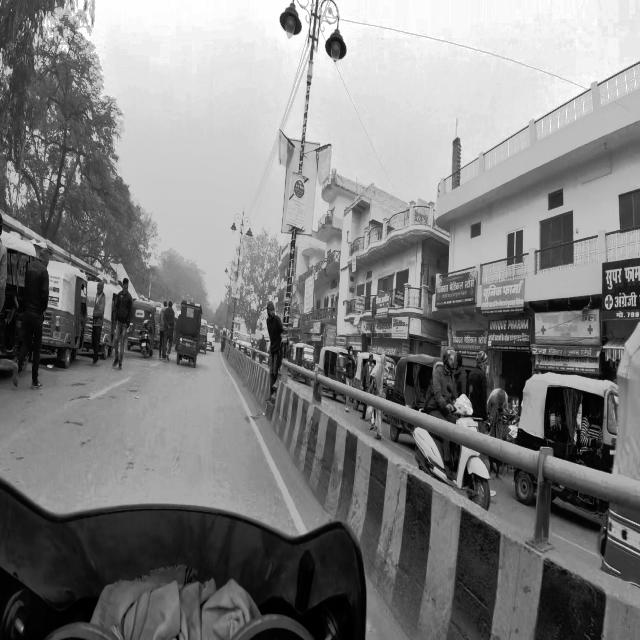Auto-Rickshaw: (512, 372, 624, 512), (35, 245, 89, 371), (84, 279, 125, 352), (352, 345, 398, 407), (317, 340, 353, 390)
Bike: (417, 352, 498, 502)
Toto: (176, 290, 204, 370)
